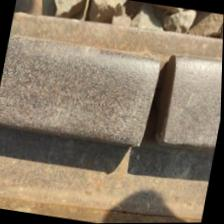person: (82, 15, 224, 175)
